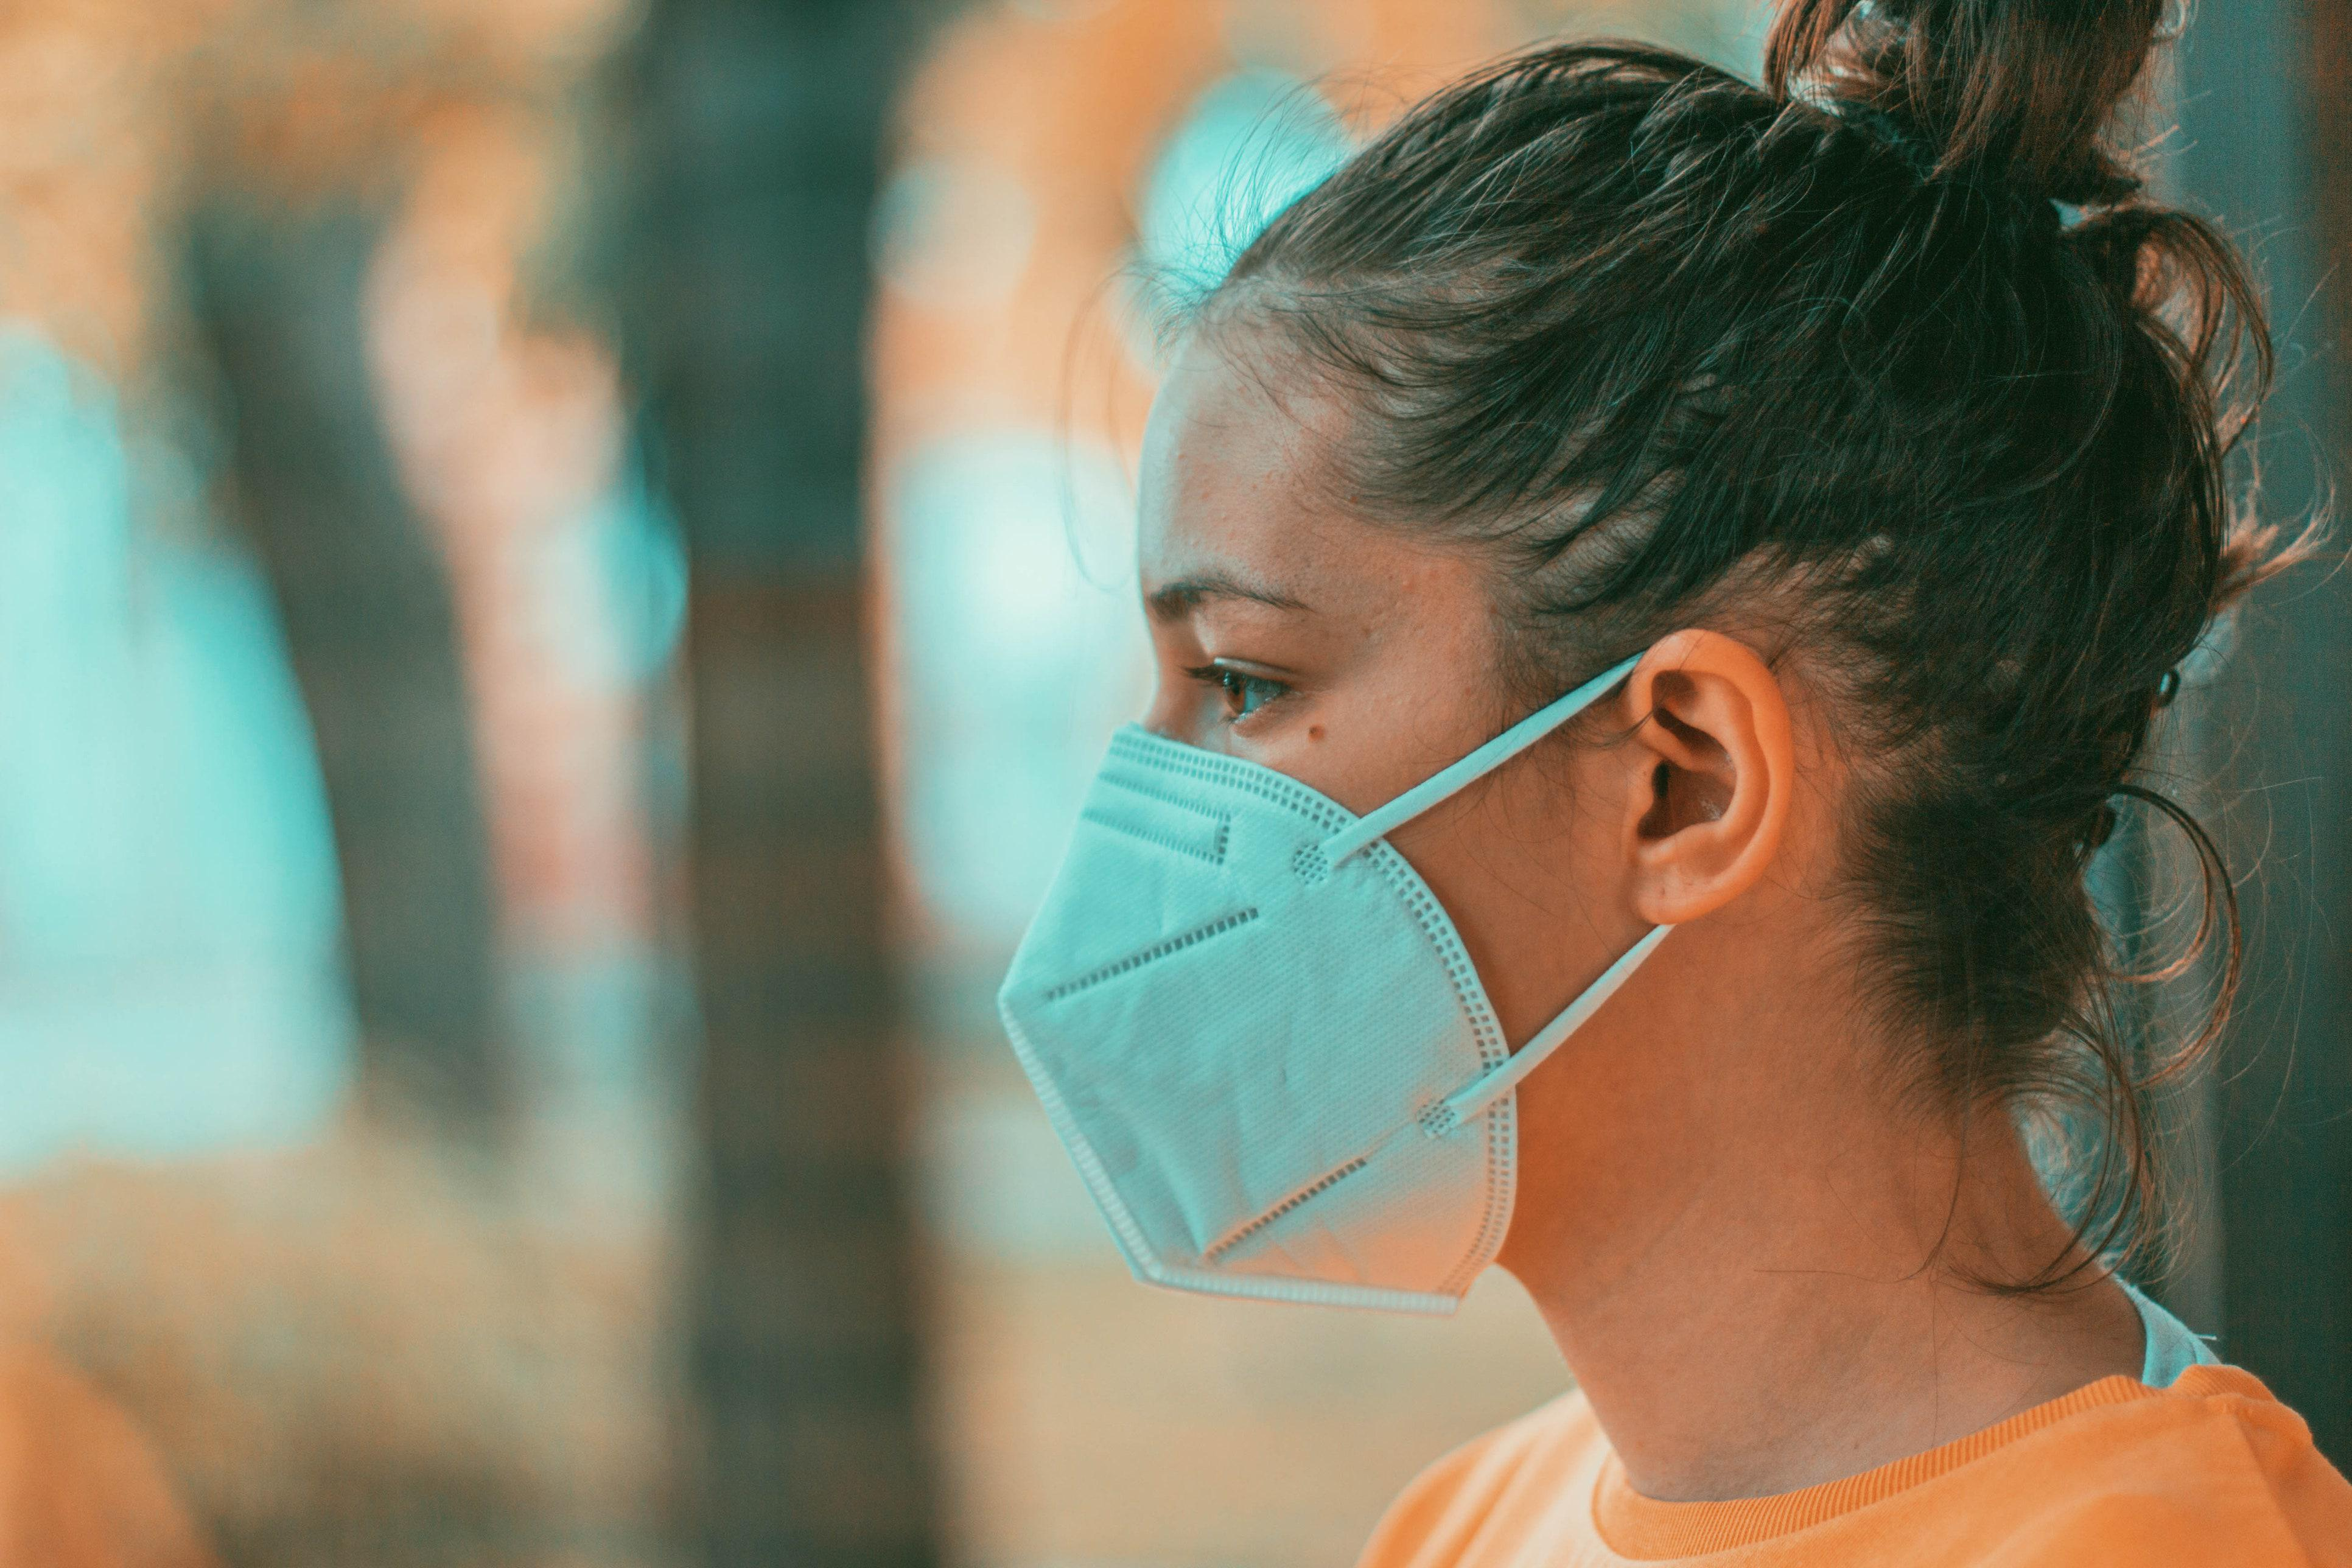with_mask: (988, 32, 2284, 1320)
